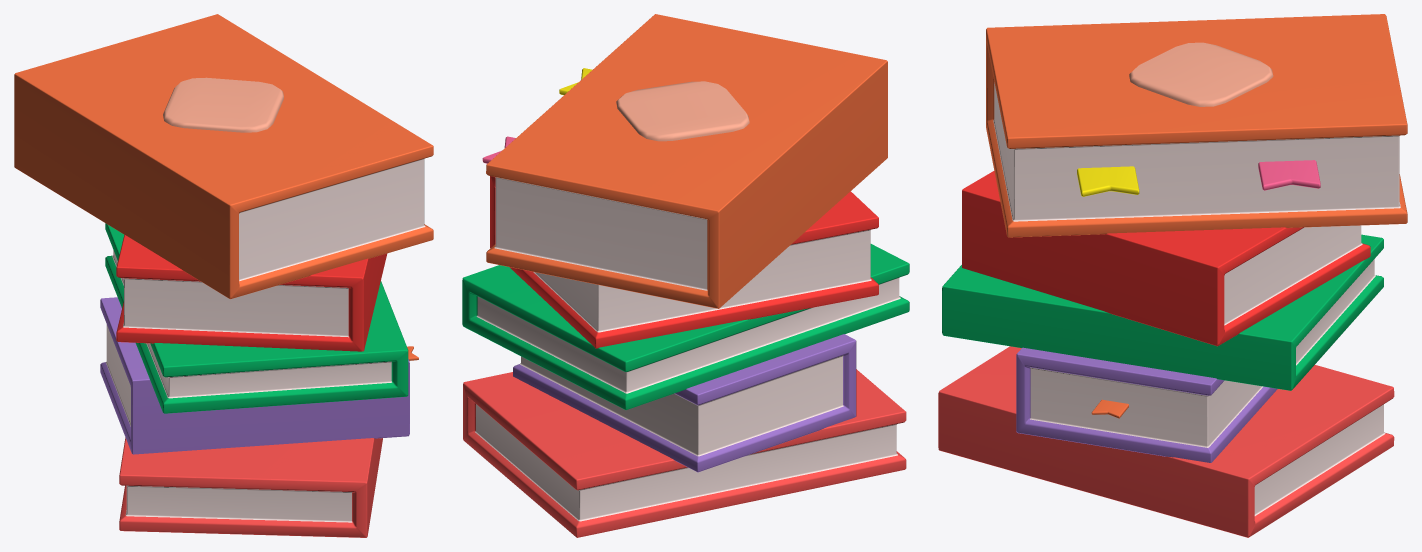
File: Public_2_Books_1.glb
The picture shows the model from 3 angles, left to right: view 1: azimuth 30°, elevation 25°; view 2: azimuth 150°, elevation 25°; view 3: azimuth 270°, elevation 25°; orthographic projection. The views are drawn at different scales.
Parts seen in each view (by area): view 1: Public_2_Books_1; view 2: Public_2_Books_1; view 3: Public_2_Books_1.
Part boxes in pixels (bbox=[...]): Public_2_Books_1: bbox=[14, 14, 433, 537]; Public_2_Books_1: bbox=[462, 14, 909, 537]; Public_2_Books_1: bbox=[938, 14, 1407, 537].
Bounding box in the file's own units: 2.35 × 2.26 × 2.6.
Materials: 1 (1 with a texture image).
